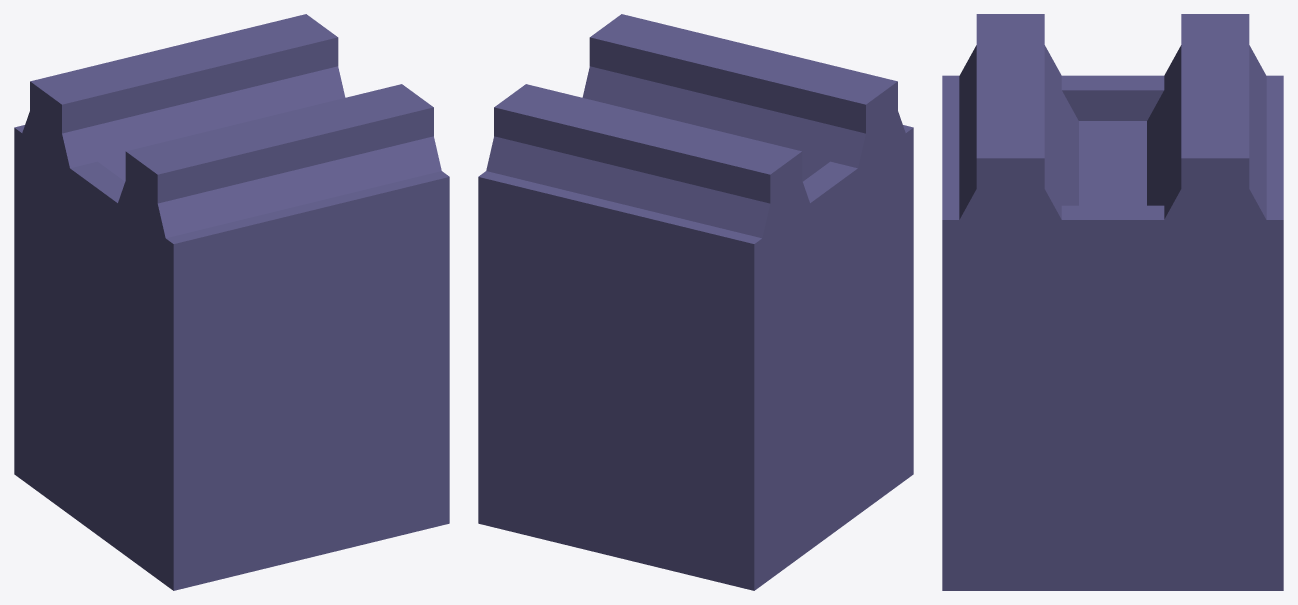
The model's file is wall.glb.
The picture shows the model from 3 angles, left to right: view 1: azimuth 30°, elevation 25°; view 2: azimuth 150°, elevation 25°; view 3: azimuth 270°, elevation 25°; orthographic projection. The views are drawn at different scales.
Visible parts, largest first — view 1: mergedBlocks(Clone); view 2: mergedBlocks(Clone); view 3: mergedBlocks(Clone).
Boxes of the visible parts, x1,y1,x2,y2 form: mergedBlocks(Clone): (14,14,449,590); mergedBlocks(Clone): (478,14,913,590); mergedBlocks(Clone): (942,14,1283,590).
Bounding box in the file's own units: 1 × 1.4 × 1.
Materials: 1 (1 with a texture image).
